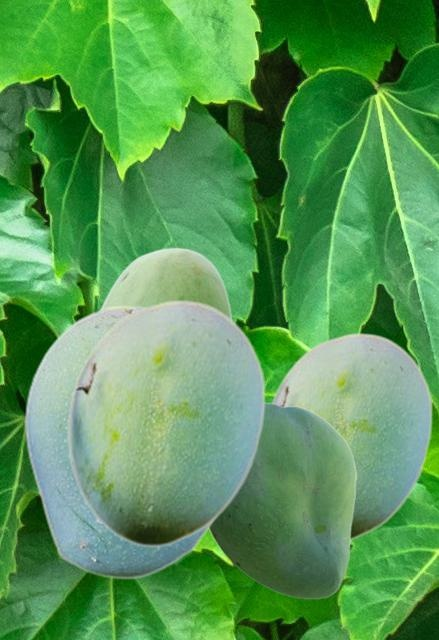green_mango: (23, 304, 217, 579), (66, 299, 265, 546), (269, 332, 432, 541), (209, 402, 355, 598), (99, 247, 231, 315)
